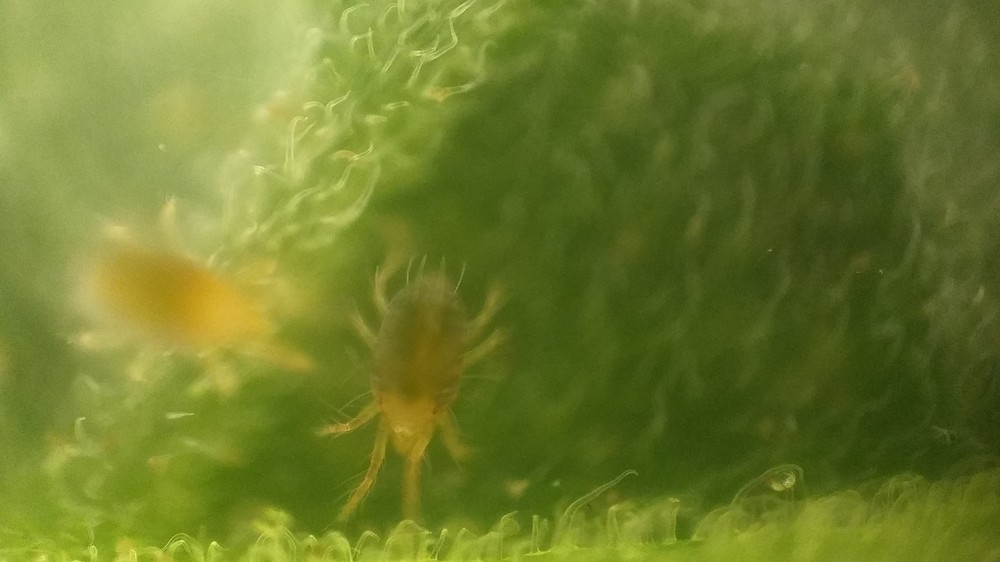Aracnido Rojo: (291, 247, 532, 537)
